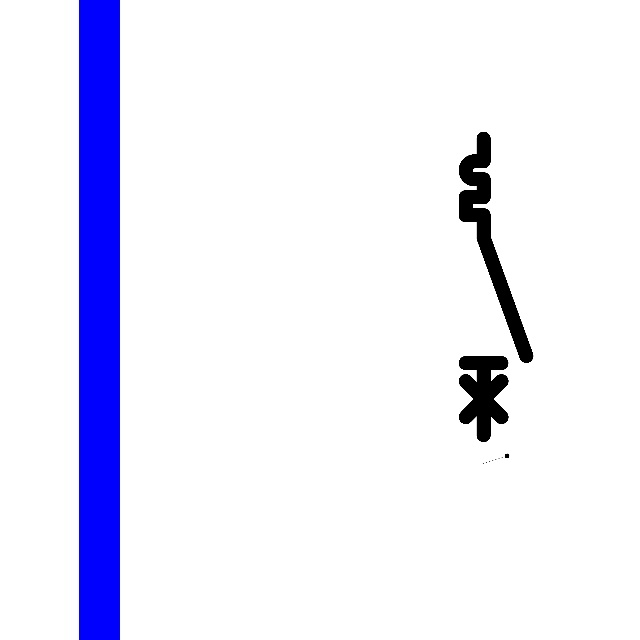interruptor_termomagnetico: (458, 131, 534, 442)
